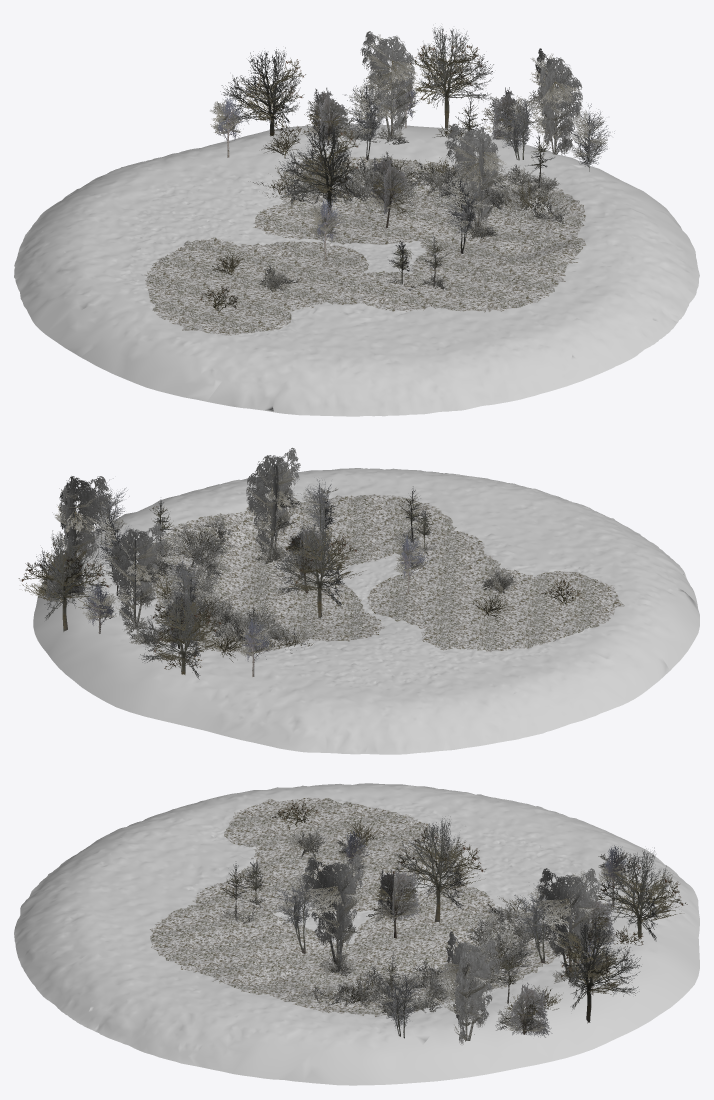
The model's file is WINTER_TREE_PACK.obj.
The picture shows the model from 3 angles, top to bottom: view 1: azimuth 30°, elevation 25°; view 2: azimuth 150°, elevation 25°; view 3: azimuth 270°, elevation 25°; orthographic projection. The views are drawn at different scales.
Parts seen in each view (by area): view 1: Snow, Snow_Melting, Winter_Trees_Planes.002, Winter_Trees_Branches.008, Winter_Trees_Branches.004, Winter_Trees_Branches.003, Winter_Trees_Planes, Winter_Trees_Planes.006, Winter_Trees_Planes.005, Winter_Trees_Branches.009, Winter_Trees_Branches.016, Winter_Trees_Branches.017 (+6 smaller); view 2: Snow, Snow_Melting, Winter_Trees_Planes.002, Winter_Trees_Branches.008, Winter_Trees_Branches.004, Winter_Trees_Planes.005, Winter_Trees_Branches.003, Winter_Trees_Planes, Winter_Trees_Planes.006, Winter_Trees_Branches.017, Winter_Trees_Branches.016, Winter_Trees_Branches.009 (+7 smaller); view 3: Snow, Snow_Melting, Winter_Trees_Planes.002, Winter_Trees_Branches.008, Winter_Trees_Planes.005, Winter_Trees_Planes, Winter_Trees_Branches.003, Winter_Trees_Branches.004, Winter_Trees_Planes.006, Winter_Trees_Branches.017, Winter_Trees_Planes.008, Winter_Trees_Branches.016 (+7 smaller).
Boxes of the visible parts, x1=… form: Snow: x1=14, y1=123, x2=699, y2=416; Snow_Melting: x1=144, y1=153, x2=585, y2=335; Winter_Trees_Planes.002: x1=215, y1=26, x2=614, y2=187; Winter_Trees_Branches.008: x1=210, y1=34, x2=607, y2=193; Winter_Trees_Branches.004: x1=412, y1=157, x2=570, y2=226; Winter_Trees_Branches.003: x1=253, y1=151, x2=446, y2=209; Winter_Trees_Planes: x1=535, y1=48, x2=582, y2=155; Winter_Trees_Planes.006: x1=279, y1=121, x2=354, y2=217; Winter_Trees_Planes.005: x1=445, y1=123, x2=498, y2=229; Winter_Trees_Branches.009: x1=522, y1=53, x2=580, y2=153; Winter_Trees_Branches.016: x1=451, y1=126, x2=505, y2=223; Winter_Trees_Branches.017: x1=290, y1=129, x2=360, y2=198; Snow: x1=33, y1=468, x2=699, y2=754; Snow_Melting: x1=149, y1=494, x2=624, y2=652; Winter_Trees_Planes.002: x1=36, y1=478, x2=274, y2=679; Winter_Trees_Branches.008: x1=18, y1=493, x2=273, y2=671; Winter_Trees_Branches.004: x1=152, y1=517, x2=241, y2=601; Winter_Trees_Planes.005: x1=246, y1=447, x2=300, y2=554; Winter_Trees_Branches.003: x1=166, y1=589, x2=313, y2=653; Winter_Trees_Planes: x1=59, y1=476, x2=111, y2=569; Winter_Trees_Planes.006: x1=273, y1=521, x2=344, y2=618; Winter_Trees_Branches.017: x1=284, y1=526, x2=363, y2=591; Winter_Trees_Branches.016: x1=247, y1=462, x2=301, y2=549; Winter_Trees_Branches.009: x1=52, y1=486, x2=105, y2=554; Snow: x1=14, y1=783, x2=699, y2=1085; Snow_Melting: x1=150, y1=797, x2=567, y2=1017; Winter_Trees_Planes.002: x1=378, y1=845, x2=673, y2=1038; Winter_Trees_Branches.008: x1=376, y1=852, x2=687, y2=1031; Winter_Trees_Planes.005: x1=301, y1=854, x2=364, y2=965; Winter_Trees_Planes: x1=446, y1=931, x2=501, y2=1044; Winter_Trees_Branches.003: x1=467, y1=898, x2=554, y2=983; Winter_Trees_Branches.004: x1=296, y1=960, x2=498, y2=1008; Winter_Trees_Planes.006: x1=392, y1=816, x2=465, y2=922; Winter_Trees_Branches.017: x1=388, y1=828, x2=486, y2=890; Winter_Trees_Planes.008: x1=378, y1=867, x2=422, y2=938; Winter_Trees_Branches.016: x1=304, y1=856, x2=362, y2=960.
Size of the model in its own units: 90.13 by 19.72 by 88.25.
